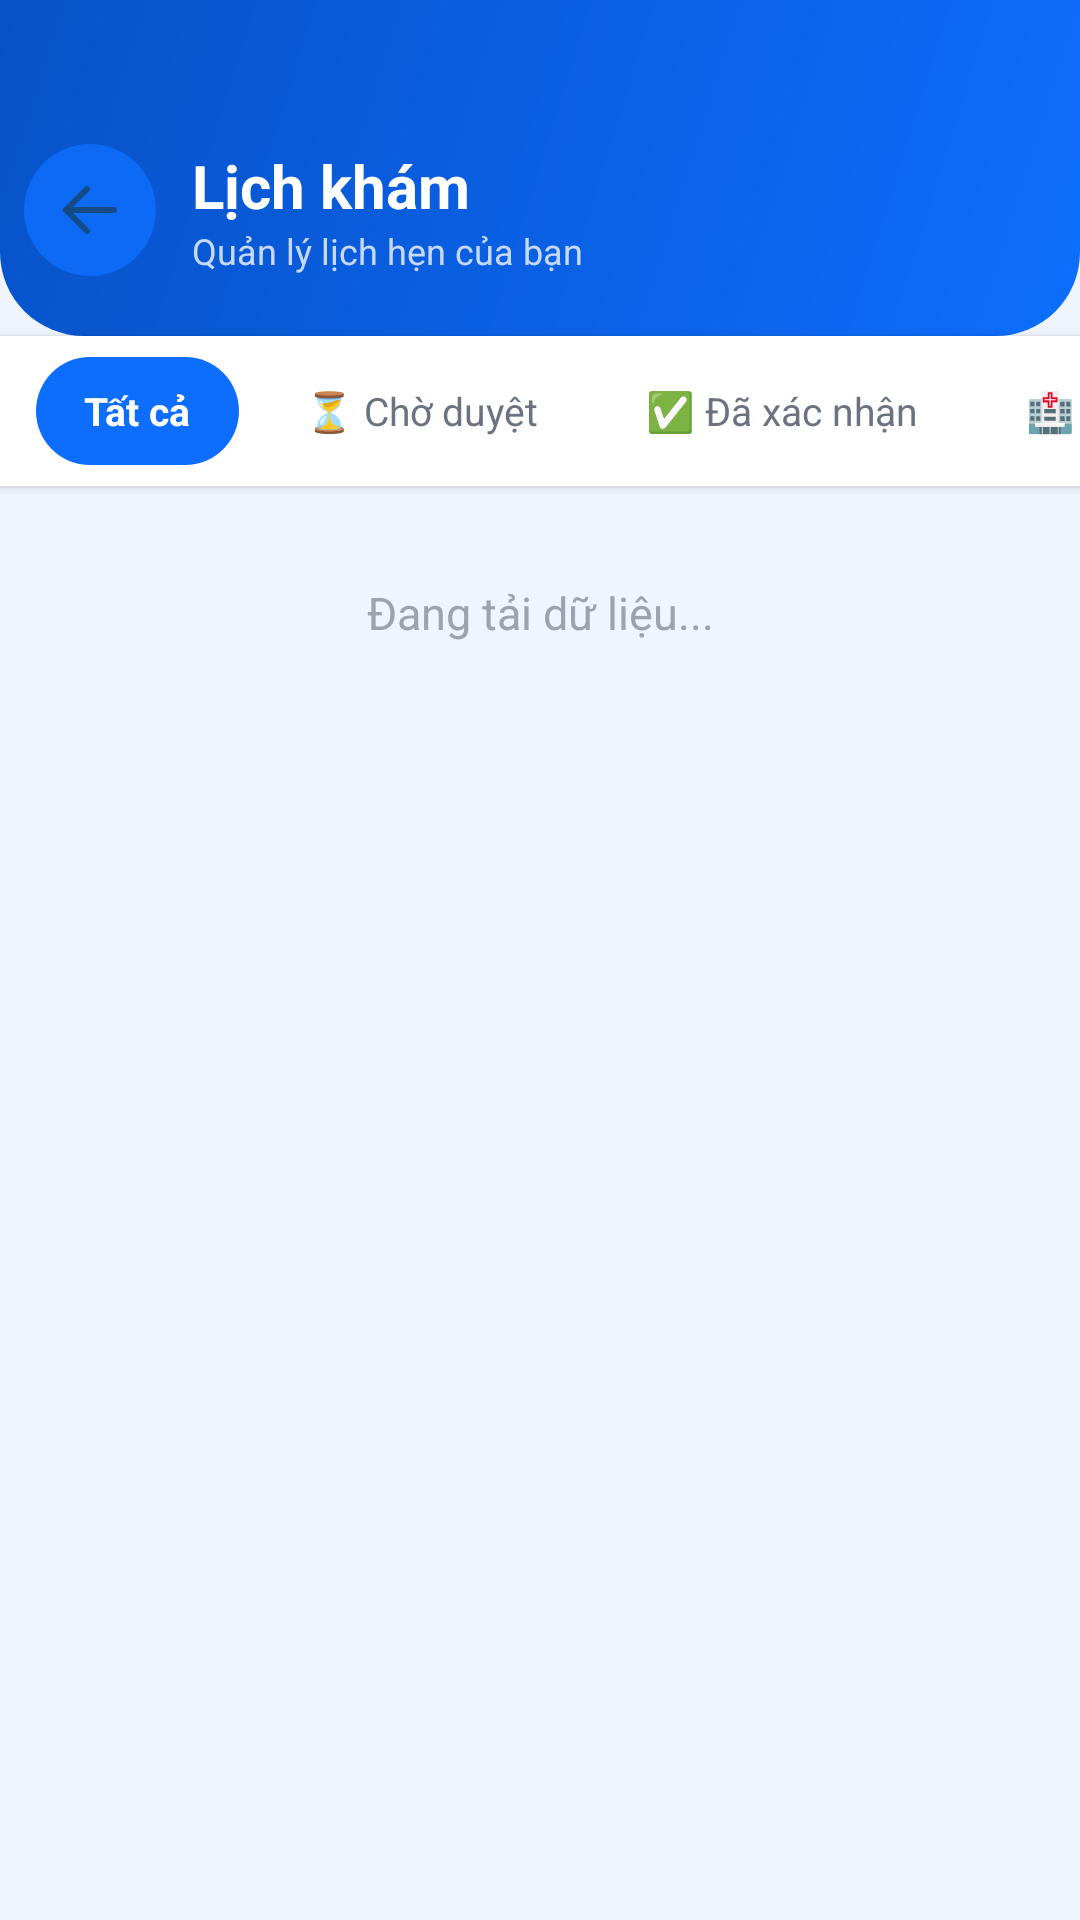

Point at icon controls on the screen. Image size 1080 × 1920, points as point (x, y).
Quay lại: point (90, 210)
